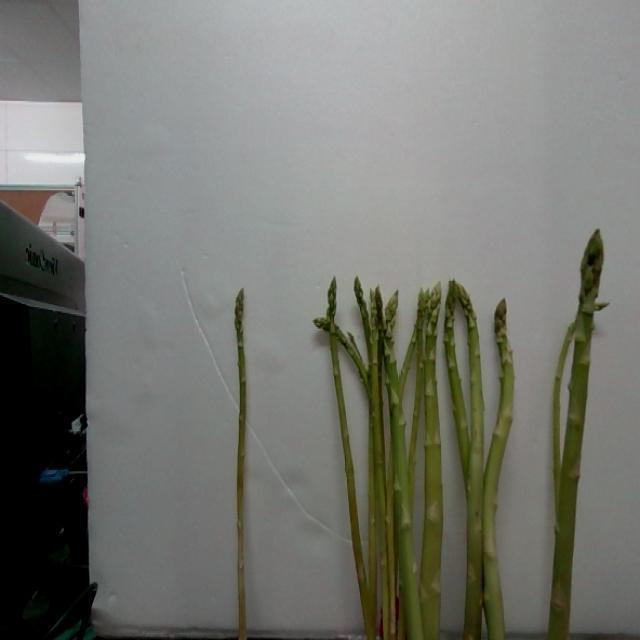aspargus: (547, 231, 605, 640), (231, 289, 256, 640)
